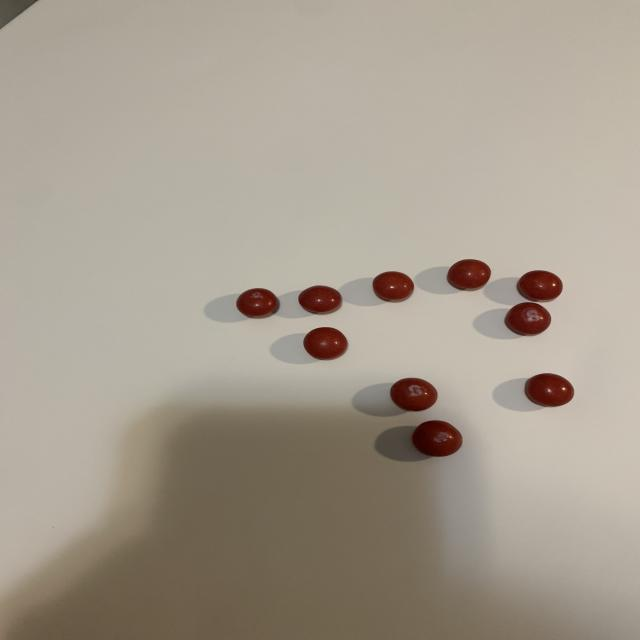smartie: (413, 421, 463, 457), (390, 378, 438, 412), (526, 374, 574, 407), (505, 302, 552, 335), (303, 327, 348, 360), (447, 259, 491, 290), (518, 271, 563, 301), (236, 288, 279, 318), (298, 286, 343, 314), (372, 271, 414, 301)
